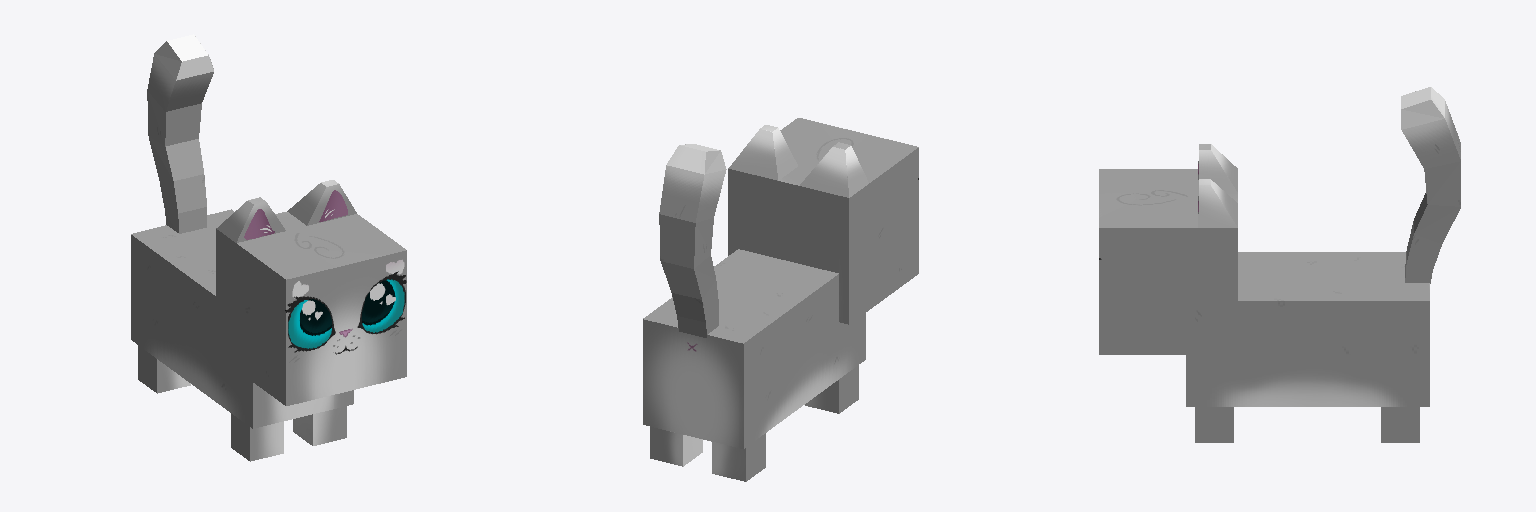
3 renders of one model, left to right at view 1: azimuth 30°, elevation 25°; view 2: azimuth 150°, elevation 25°; view 3: azimuth 270°, elevation 25°, orthographic.
Visible parts, largest first — view 1: Cat_Head2_initialShadingGroup, Cat_1_Munchkin_initialShadingGroup, Cat_1_Munchkin_initialShadingGroup_1, Cat_1_Munchkin_initialShadingGroup_2, Cat_1_Munchkin_initialShadingGroup_3, Cat_1_Munchkin_initialShadingGroup_4; view 2: Cat_1_Munchkin_initialShadingGroup, Cat_Head2_initialShadingGroup, Cat_1_Munchkin_initialShadingGroup_1, Cat_1_Munchkin_initialShadingGroup_4, Cat_1_Munchkin_initialShadingGroup_5, Cat_1_Munchkin_initialShadingGroup_2; view 3: Cat_1_Munchkin_initialShadingGroup, Cat_Head2_initialShadingGroup, Cat_1_Munchkin_initialShadingGroup_1, Cat_1_Munchkin_initialShadingGroup_3, Cat_1_Munchkin_initialShadingGroup_5.
Boxes of the visible parts, x1,y1,x2,y2 form: Cat_Head2_initialShadingGroup: [216, 180, 406, 405]; Cat_1_Munchkin_initialShadingGroup: [131, 209, 353, 428]; Cat_1_Munchkin_initialShadingGroup_1: [147, 34, 213, 233]; Cat_1_Munchkin_initialShadingGroup_2: [231, 413, 283, 461]; Cat_1_Munchkin_initialShadingGroup_3: [293, 406, 346, 445]; Cat_1_Munchkin_initialShadingGroup_4: [138, 345, 190, 393]; Cat_1_Munchkin_initialShadingGroup: [643, 249, 865, 448]; Cat_Head2_initialShadingGroup: [728, 118, 918, 324]; Cat_1_Munchkin_initialShadingGroup_1: [659, 144, 726, 337]; Cat_1_Munchkin_initialShadingGroup_4: [712, 433, 765, 481]; Cat_1_Munchkin_initialShadingGroup_5: [650, 427, 702, 466]; Cat_1_Munchkin_initialShadingGroup_2: [805, 365, 858, 413]; Cat_1_Munchkin_initialShadingGroup: [1186, 252, 1429, 406]; Cat_Head2_initialShadingGroup: [1099, 144, 1237, 354]; Cat_1_Munchkin_initialShadingGroup_1: [1401, 87, 1460, 283]; Cat_1_Munchkin_initialShadingGroup_3: [1195, 407, 1233, 442]; Cat_1_Munchkin_initialShadingGroup_5: [1381, 407, 1419, 442].
Bounding box in the file's own units: 1.2 × 3.09 × 3.11.
1 materials, 1 textured.